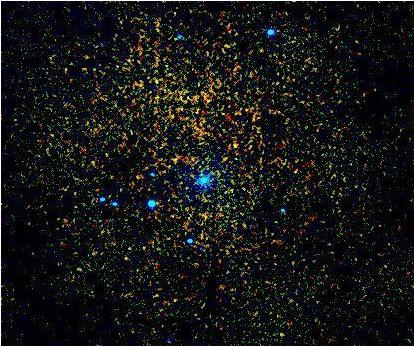star: (220, 131, 250, 161)
